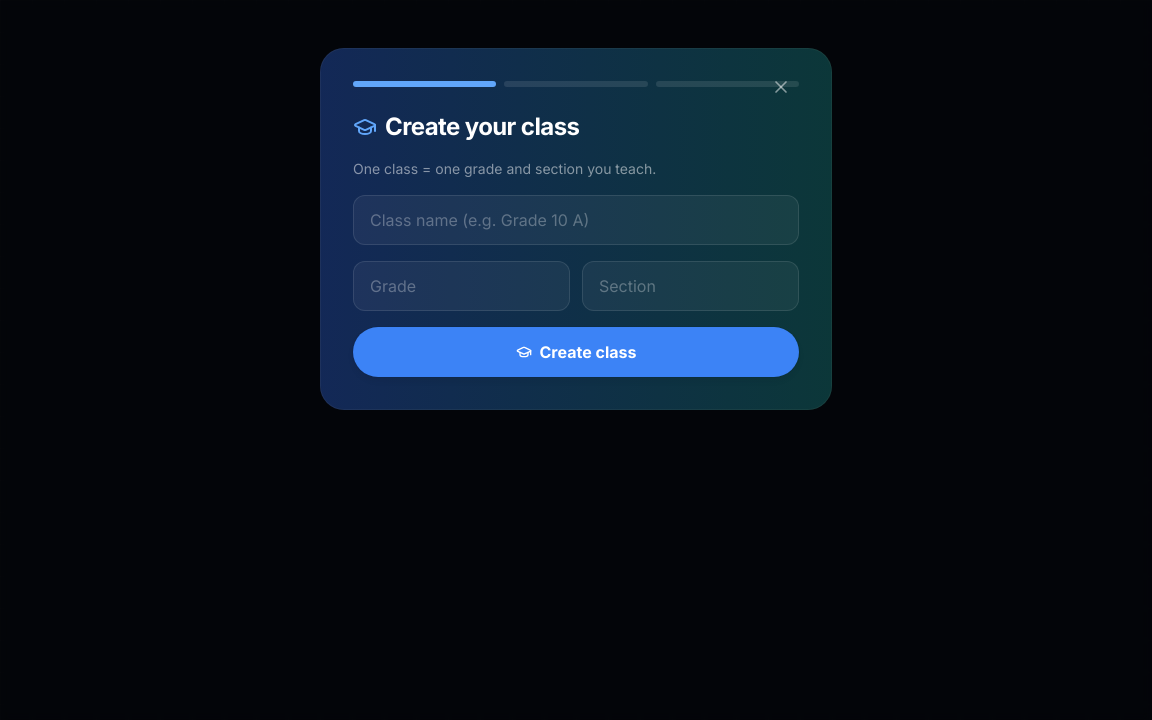
Test: ClassWizard (WP-1.5) › creates a class and advances to the invite-code step
In the field with placeholder "Class name (e.g. Grade 10 A)": x=576, y=220 top-left (353, 195), bottom-right (799, 245), type "Grade 9 A"
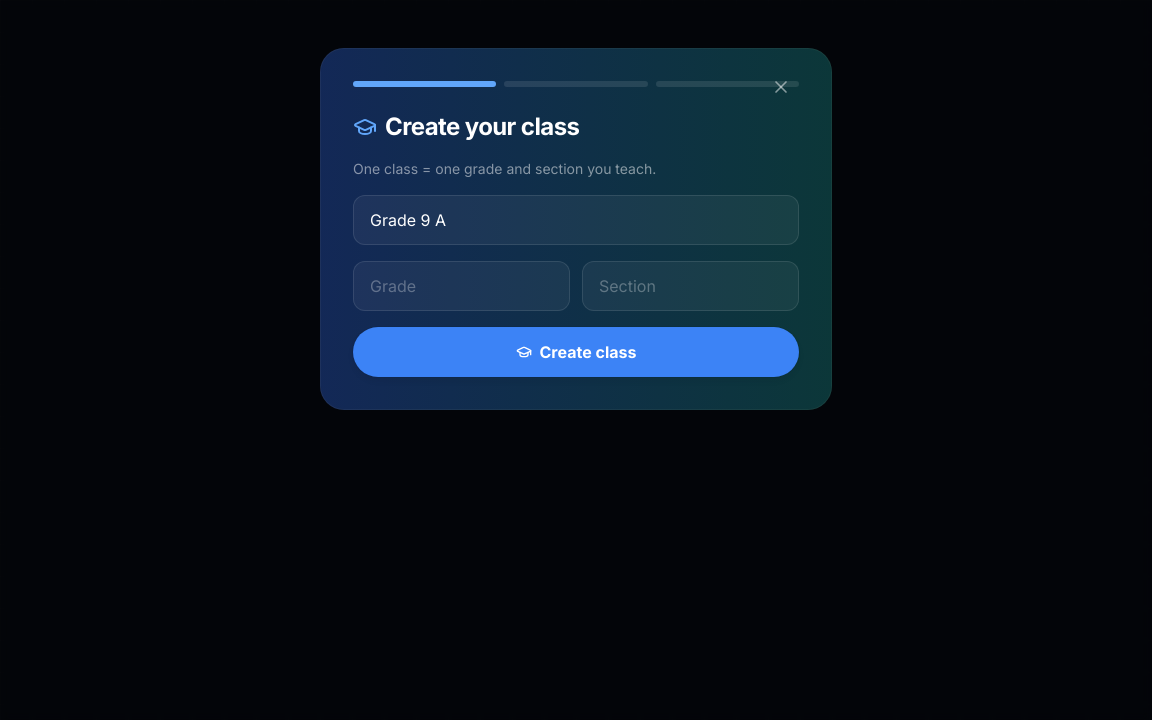
In the field with placeholder "Grade": x=462, y=286 top-left (353, 261), bottom-right (570, 311), type "9"
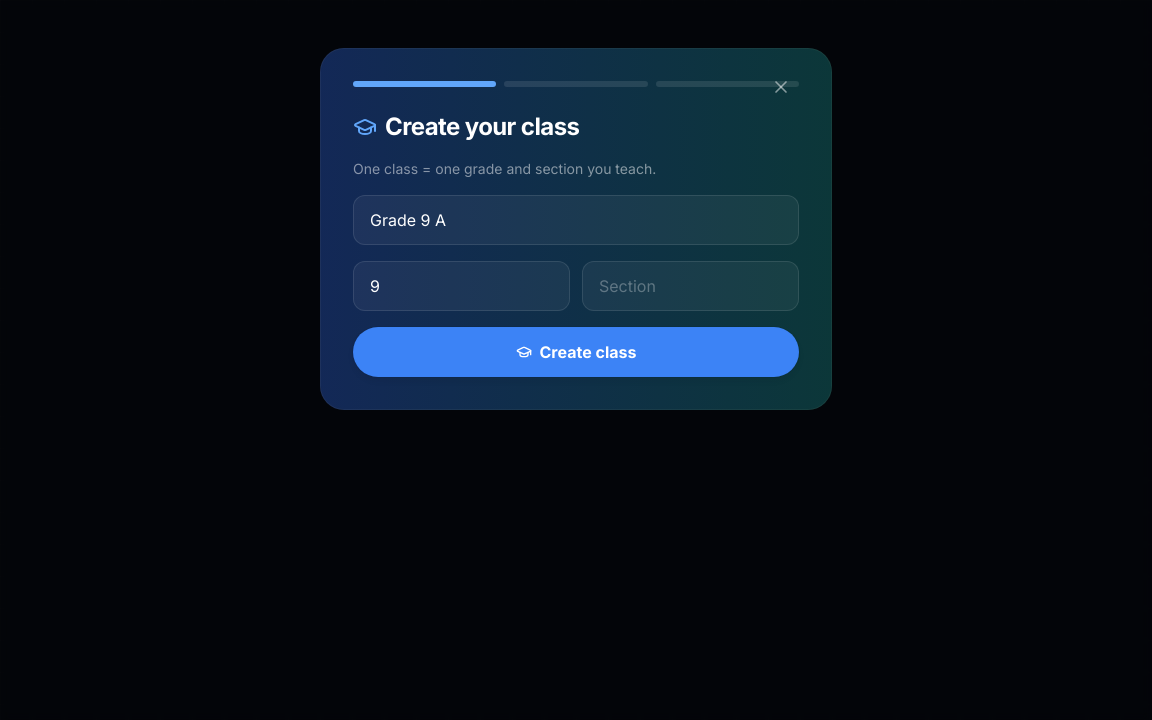
In the field with placeholder "Section": x=690, y=286 top-left (582, 261), bottom-right (799, 311), type "A"
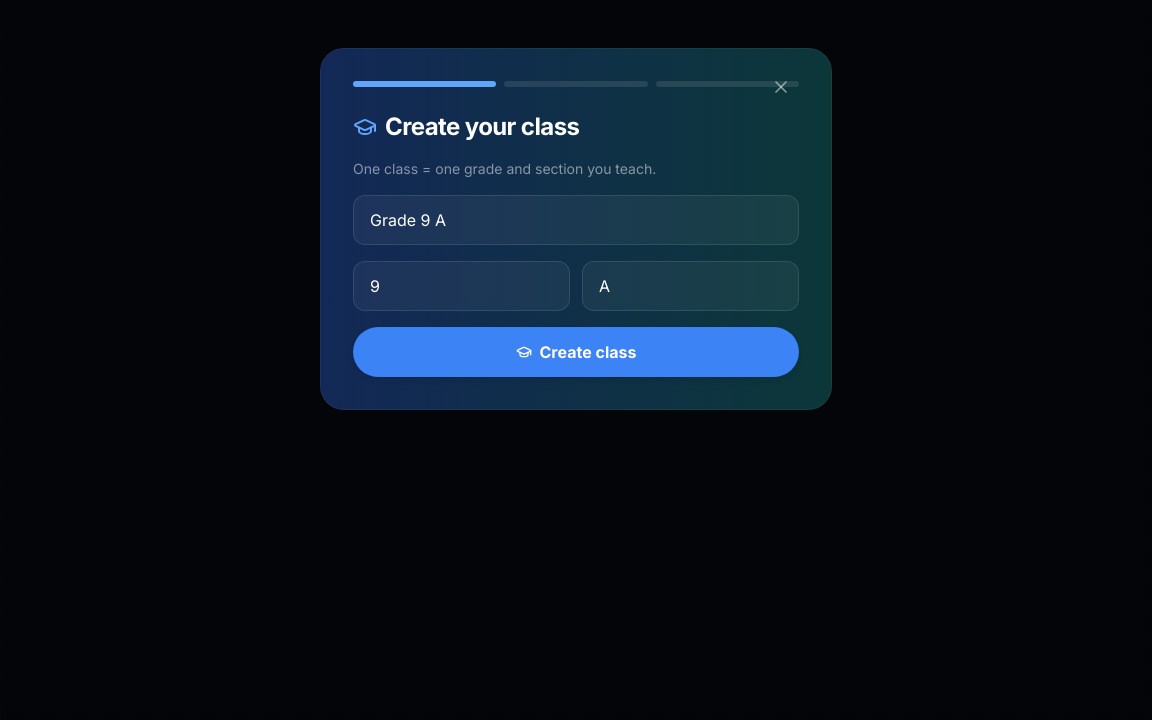
Click the button "Create class": x=576, y=352 top-left (353, 327), bottom-right (799, 377)
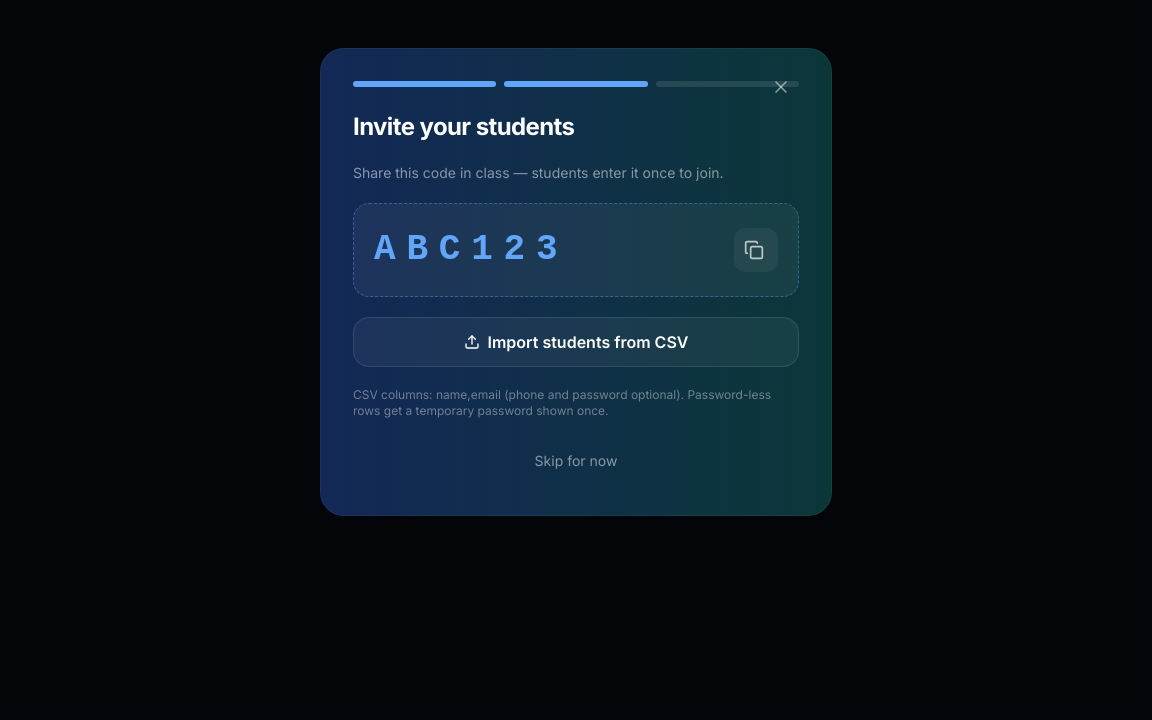
expect the text "ABC123" is shown: met, box top-left (374, 230), bottom-right (568, 270)
